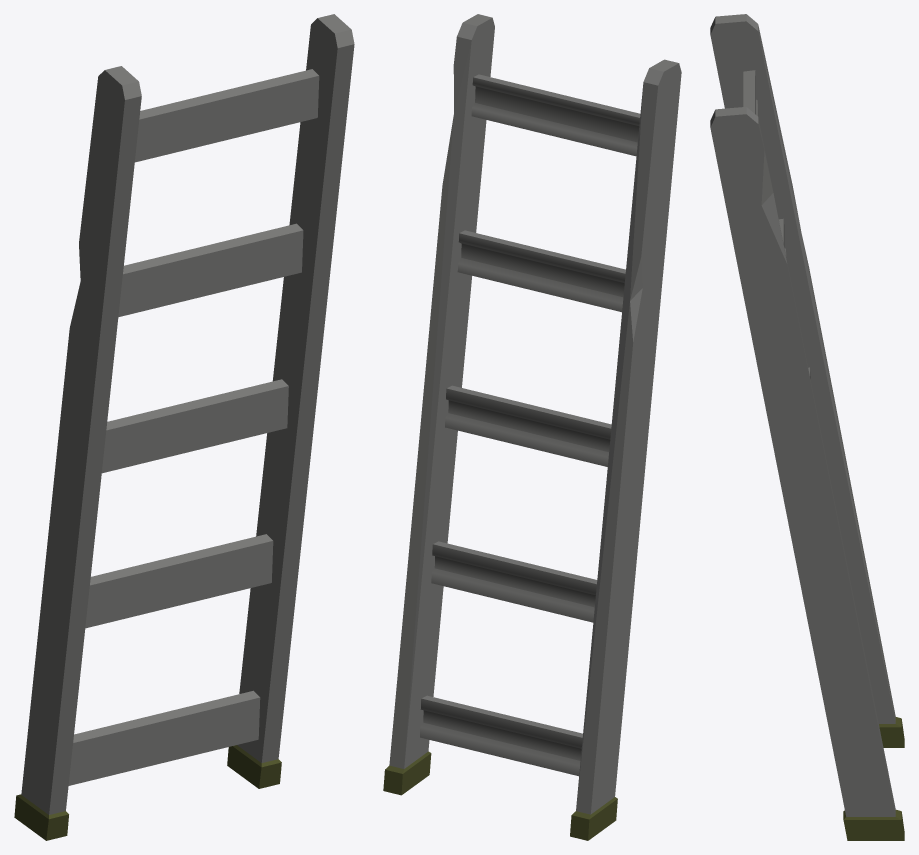
The model's file is SM_Prop_Ladder_Folding_Legs_01.glb.
The picture shows the model from 3 angles, left to right: view 1: azimuth 30°, elevation 25°; view 2: azimuth 150°, elevation 25°; view 3: azimuth 270°, elevation 25°; orthographic projection. The views are drawn at different scales.
Parts seen in each view (by area): view 1: SM_Prop_Ladder_Folding_Legs_01; view 2: SM_Prop_Ladder_Folding_Legs_01; view 3: SM_Prop_Ladder_Folding_Legs_01.
Boxes of the visible parts, left/top/right/bottom form: SM_Prop_Ladder_Folding_Legs_01: left=14, top=14, right=354, bottom=840; SM_Prop_Ladder_Folding_Legs_01: left=383, top=14, right=681, bottom=840; SM_Prop_Ladder_Folding_Legs_01: left=710, top=14, right=904, bottom=840.
Size of the model in its own units: 0.6666 by 2.21 by 0.5365.
1 material, 1 textured.
